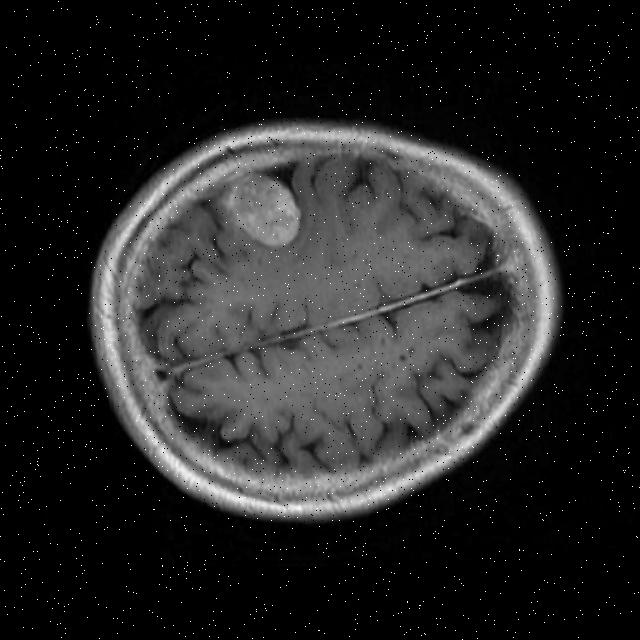Meningioma: (220, 171, 303, 250)
